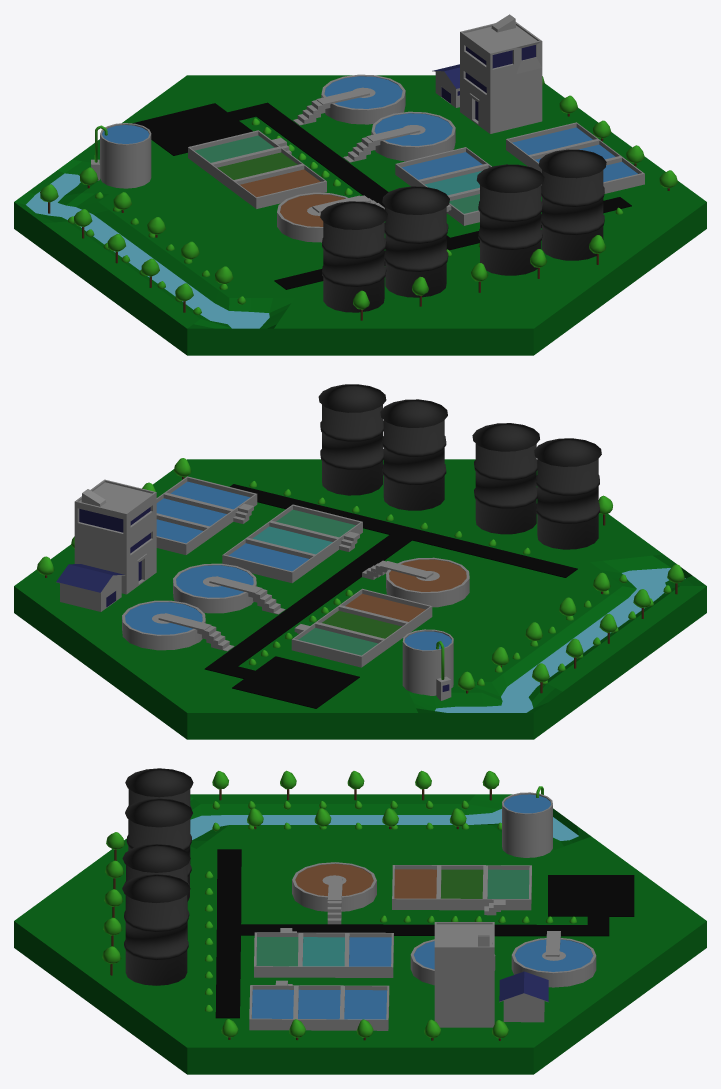
Rendered from Water_Treatment_Tile.fbx.
3 renders of one model, top to bottom at view 1: azimuth 30°, elevation 25°; view 2: azimuth 150°, elevation 25°; view 3: azimuth 270°, elevation 25°, orthographic.
Parts seen in each view (by area): view 1: Icosphere.006; view 2: Icosphere.006; view 3: Icosphere.006.
Part boxes in pixels (x1,y1,x2,y2): Icosphere.006: [14, 14, 706, 355]; Icosphere.006: [14, 384, 706, 739]; Icosphere.006: [14, 768, 706, 1074].
Bounding box in the file's own units: 10026 × 2249 × 11577.
